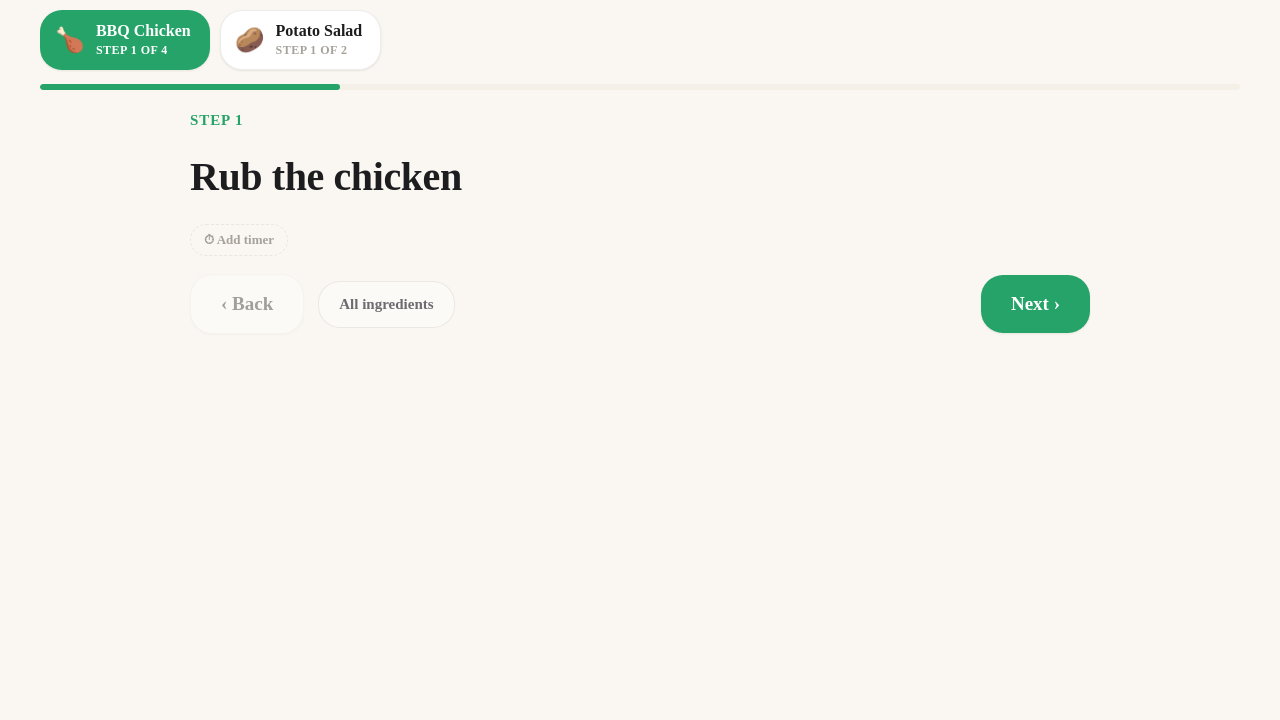
Test: CookMode — timers survive switching dishes › shows every dish’s running timers in one dock, each labelled with its dish
Expected: the text "Rub the chicken" is shown, [190, 151, 462, 202]
Click the button "⏱ Add timer".
click(239, 240)  # box [190, 224, 288, 256]
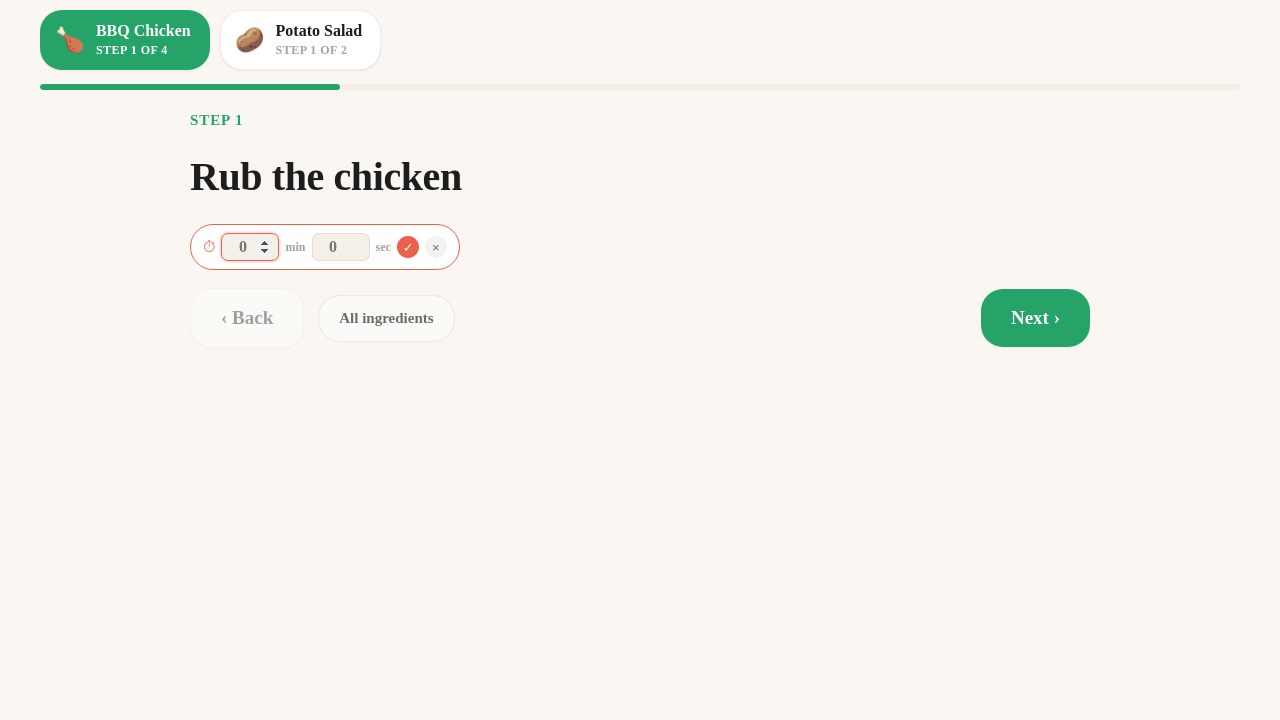
Type "2" into the number field named "minutes".
click(250, 247); type("2")  # box [222, 233, 280, 261]
Click the button named "start timer".
click(408, 247)  # box [397, 236, 419, 258]
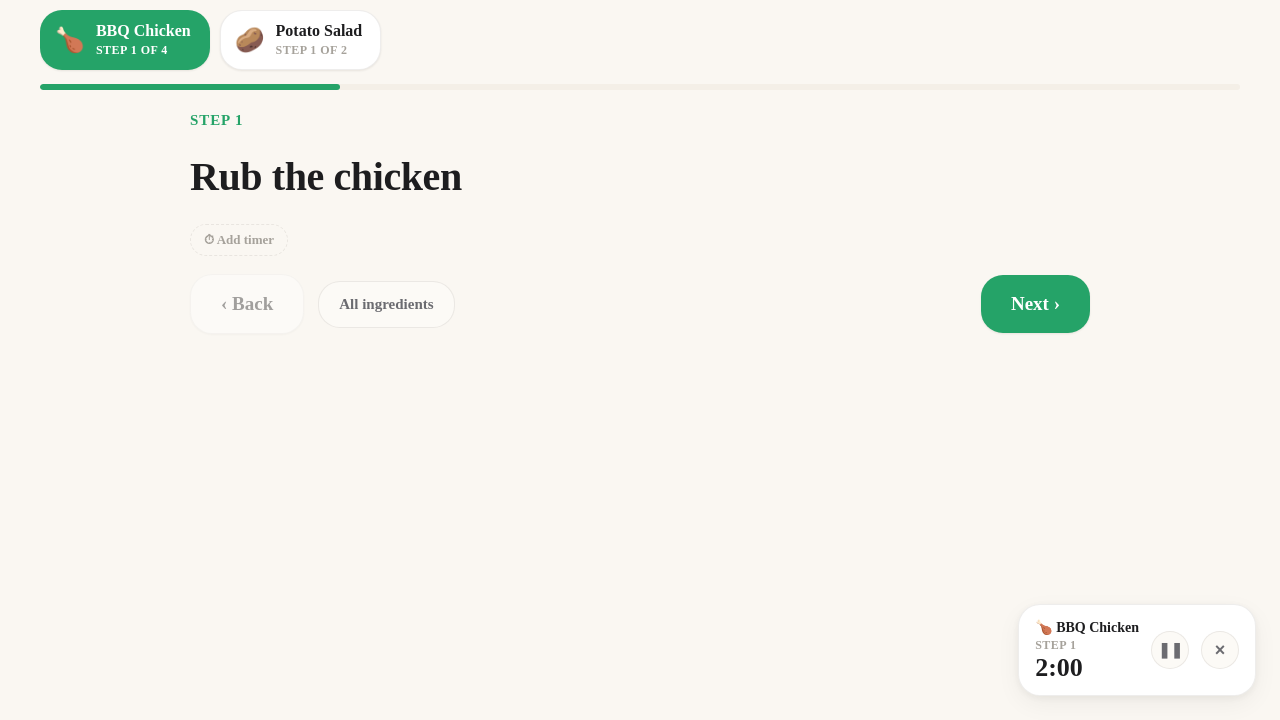
Click the tab "🥔 Potato Salad Step 1 of 2".
click(300, 40)  # box [220, 10, 381, 70]
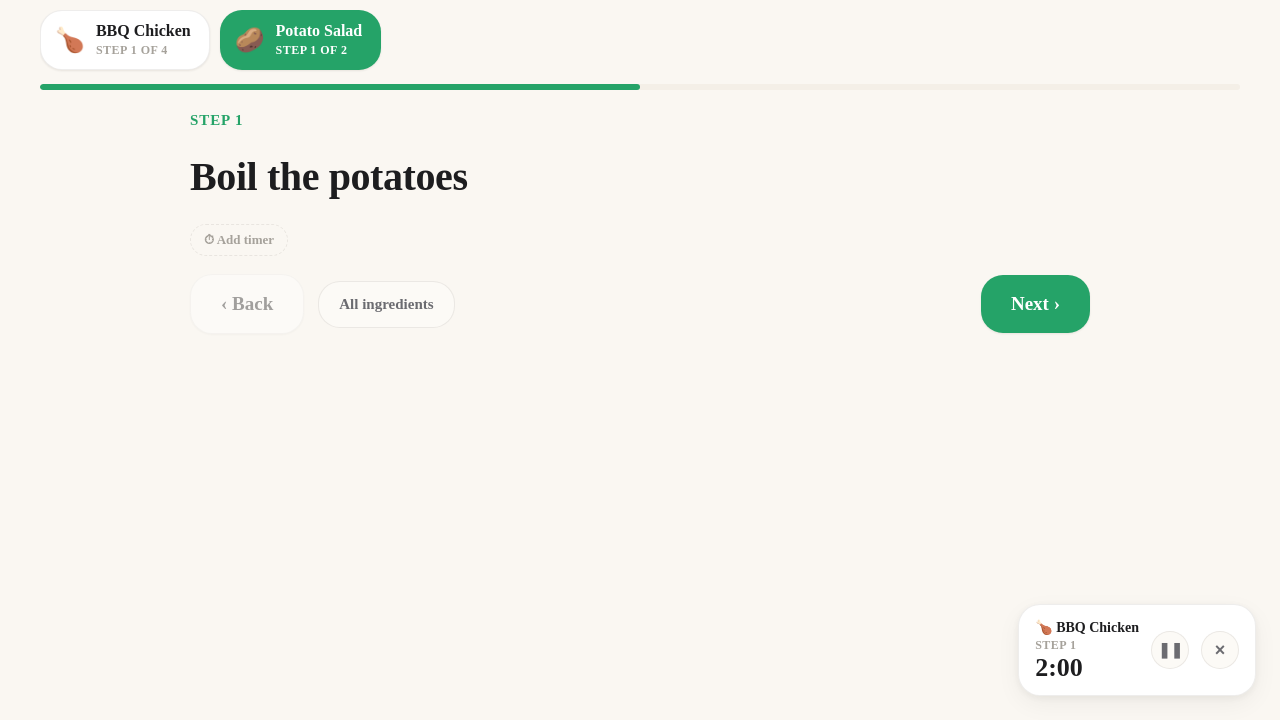
Click the button "⏱ Add timer".
click(239, 240)  # box [190, 224, 288, 256]
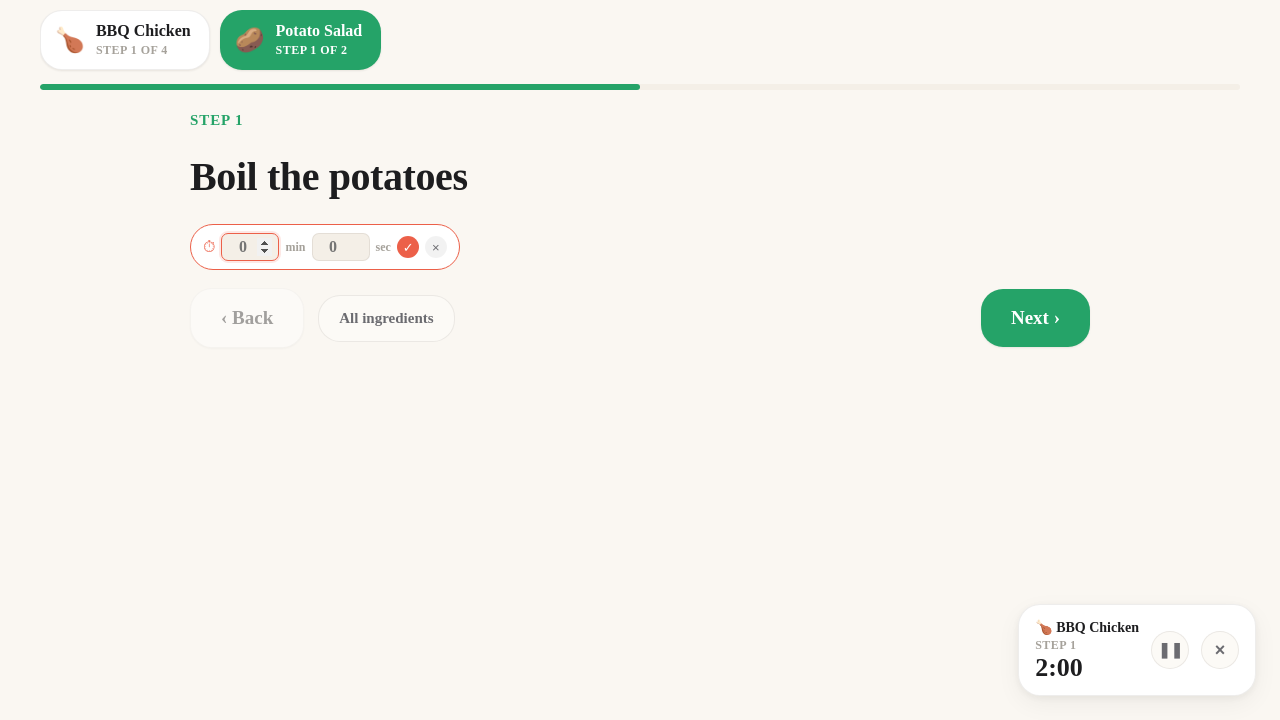
Type "1" into the number field named "minutes".
click(250, 247); type("1")  # box [222, 233, 280, 261]
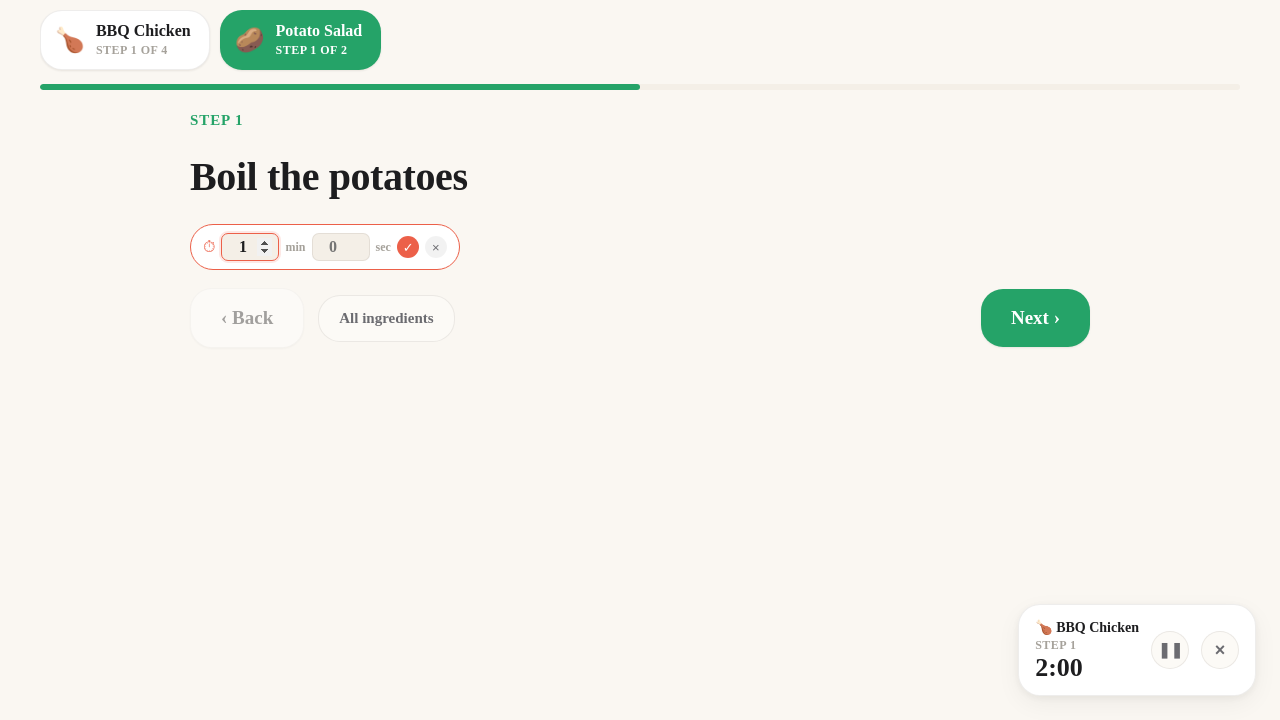
Click the button named "start timer".
click(408, 247)  # box [397, 236, 419, 258]
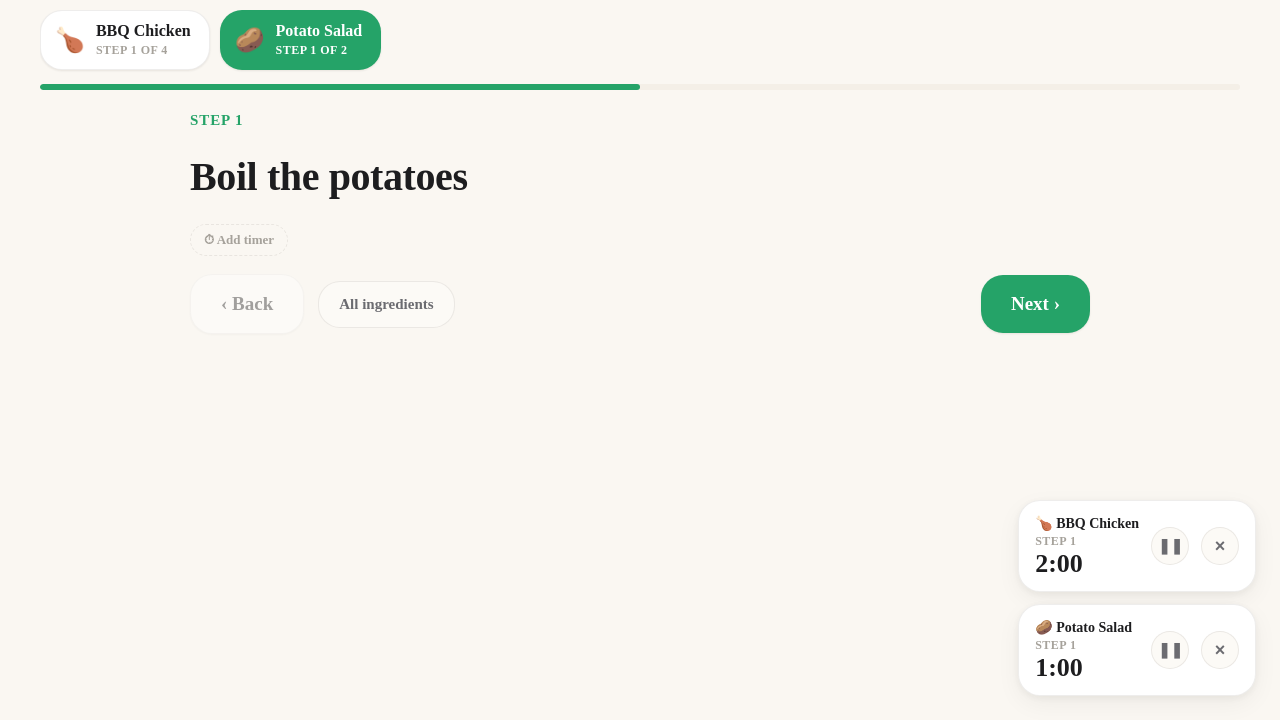
Result: the message shows "BBQ Chicken" at [1056, 516, 1139, 531]
Result: the message shows "2:00" at [1035, 549, 1083, 578]
Result: the message shows "Potato Salad" at [1056, 620, 1132, 635]
